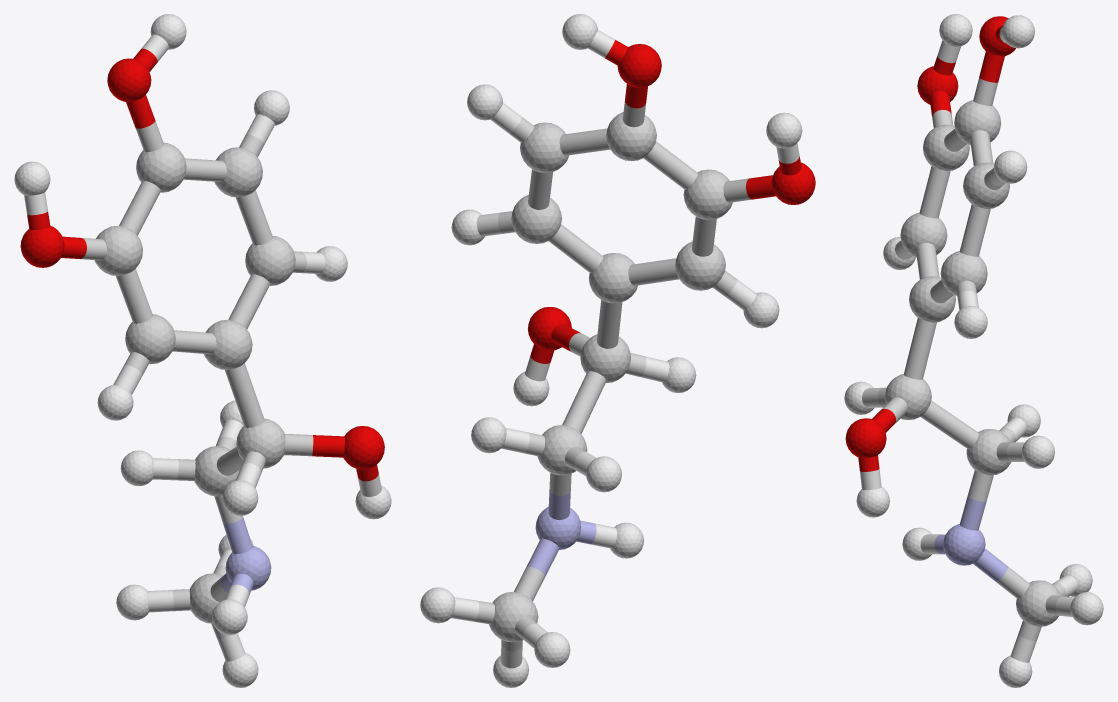
Rendered from adrenaline.fbx.
3 views of the same model, side by side, from view 1: azimuth 30°, elevation 25°; view 2: azimuth 150°, elevation 25°; view 3: azimuth 270°, elevation 25° (orthographic). The views are drawn at different scales.
Parts seen in each view (by area): view 1: adrenaline; view 2: adrenaline; view 3: adrenaline.
Boxes of the visible parts, <box> form: adrenaline: <box>14,14,391,687</box>; adrenaline: <box>420,14,815,687</box>; adrenaline: <box>844,14,1103,687</box>.
Bounding box in the file's own units: 5510 × 10644 × 3921.
